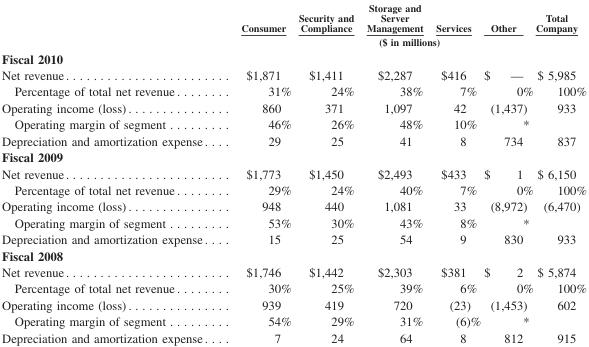table: (1, 1, 585, 344)
table column: (1, 1, 223, 344), (223, 1, 294, 344), (359, 1, 428, 344), (294, 1, 359, 344), (428, 1, 481, 344), (481, 1, 533, 344), (533, 1, 585, 344)
table column header: (1, 1, 585, 48)
table projected row header: (1, 48, 585, 66), (1, 246, 585, 263), (1, 148, 585, 164)
table row: (1, 1, 585, 34), (1, 48, 585, 66), (1, 82, 585, 99), (1, 115, 585, 132), (1, 164, 585, 181), (1, 197, 585, 214), (1, 246, 585, 263), (1, 279, 585, 296), (1, 312, 585, 329), (1, 66, 585, 82), (1, 99, 585, 115), (1, 132, 585, 148), (1, 148, 585, 164), (1, 181, 585, 197), (1, 214, 585, 230), (1, 230, 585, 246), (1, 263, 585, 279), (1, 296, 585, 312), (1, 329, 585, 344), (1, 34, 585, 48)
table spanning cell: (223, 34, 585, 48)
